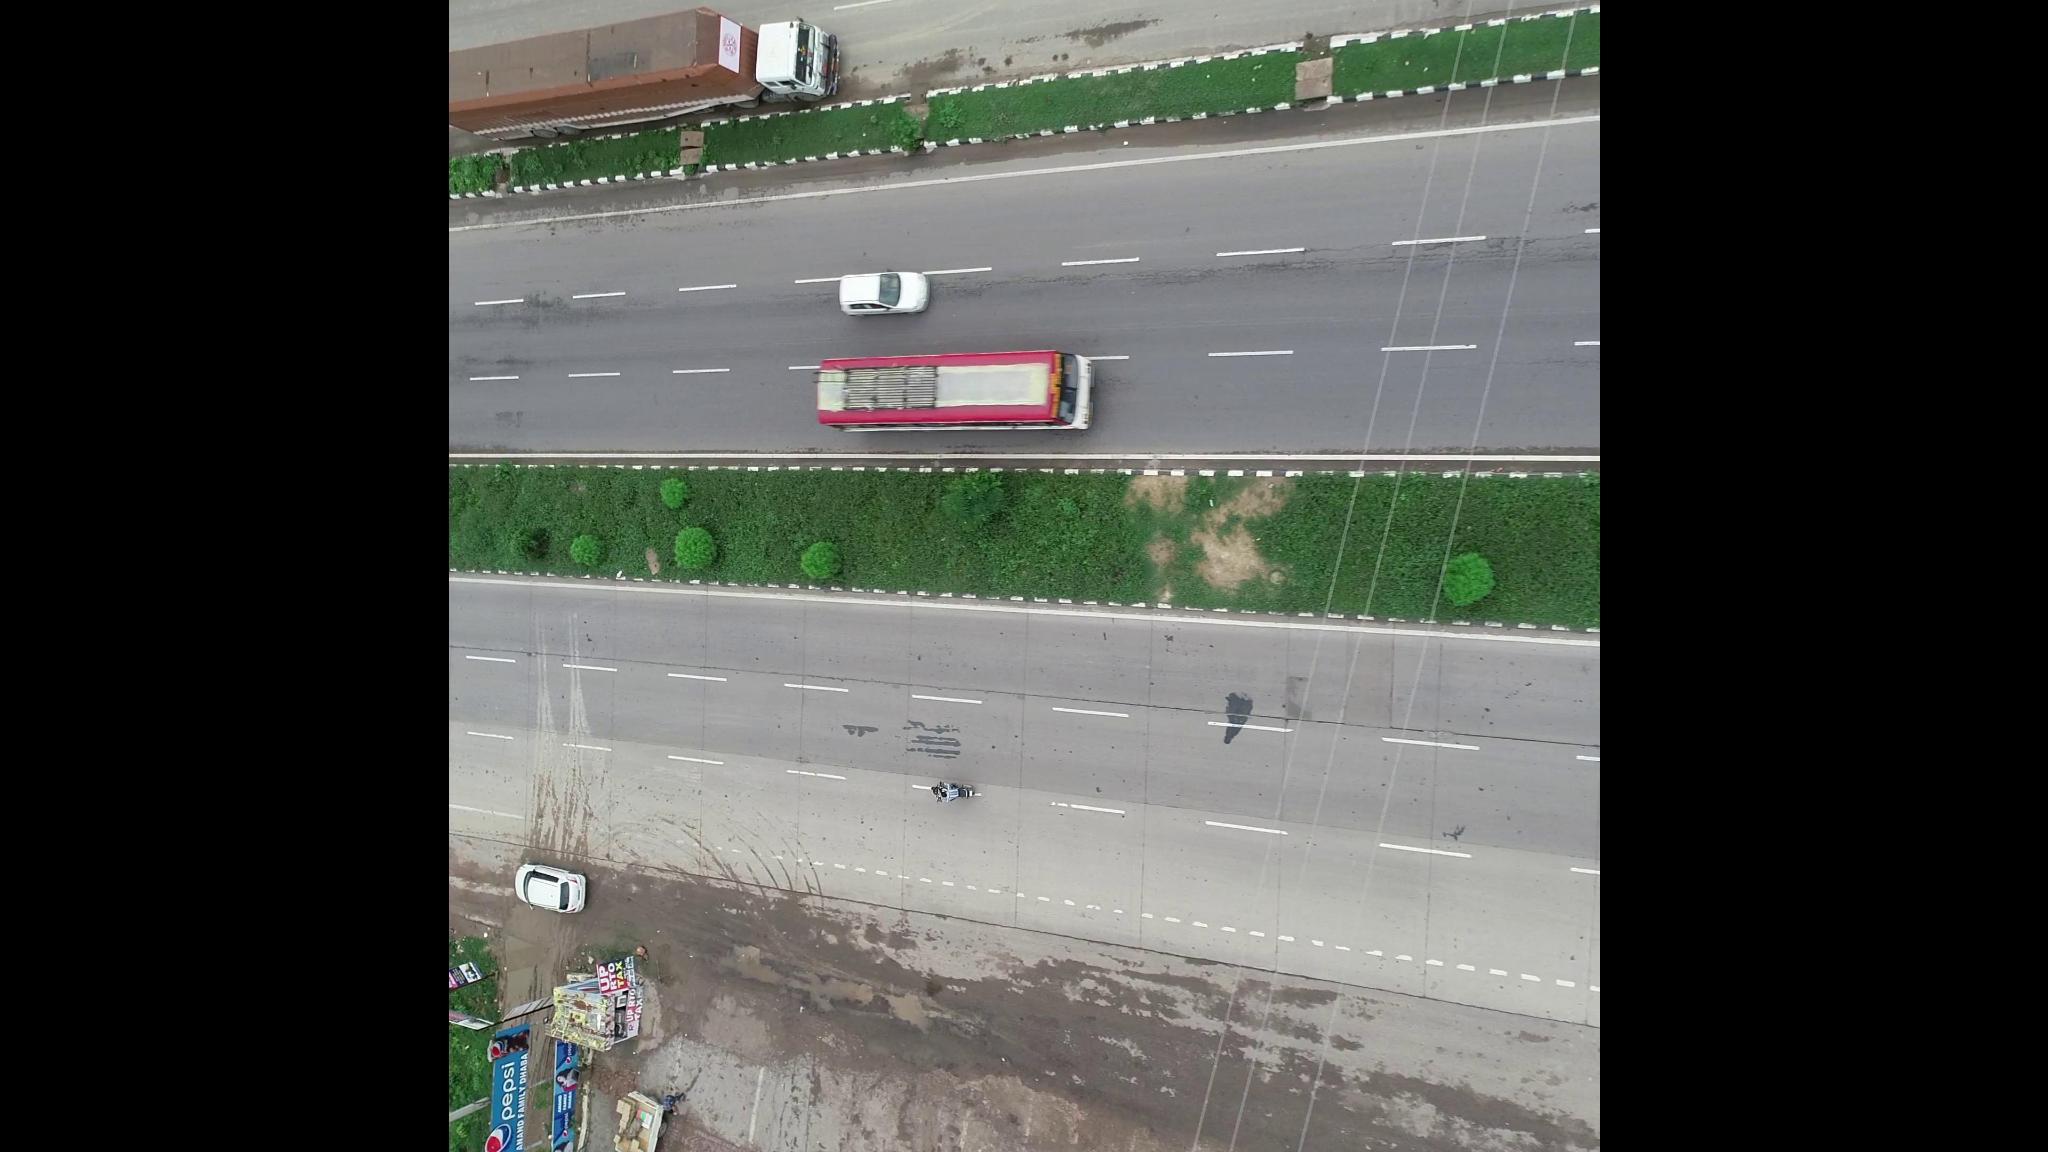Ravelling: (938, 256, 1317, 305), (1326, 243, 1551, 279)
